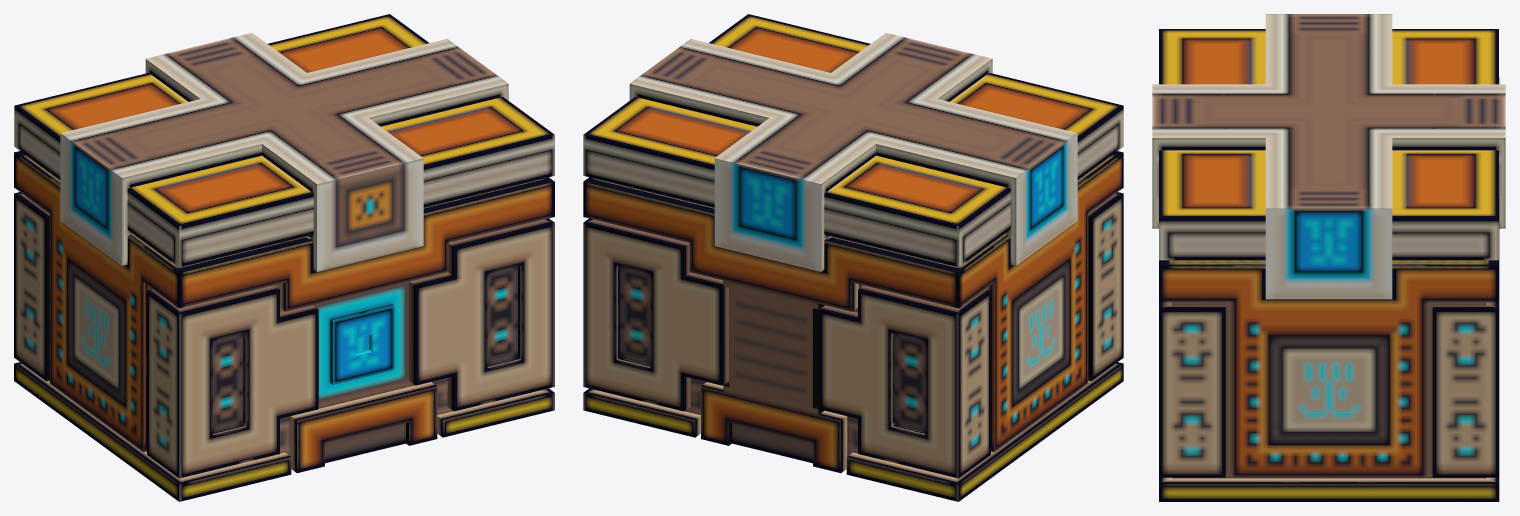
File: mechanist_lottery_chest_1 #402035.fbx
3 views of the same model, side by side, from view 1: azimuth 30°, elevation 25°; view 2: azimuth 150°, elevation 25°; view 3: azimuth 270°, elevation 25° (orthographic). The views are drawn at different scales.
Parts seen in each view (by area): view 1: mechanist_lottery_chest_1, lid_event_chest_1_mesh; view 2: mechanist_lottery_chest_1, lid_event_chest_1_mesh; view 3: lid_event_chest_1_mesh, mechanist_lottery_chest_1.
Boxes of the visible parts, <box> form: mechanist_lottery_chest_1: <box>14,151,554,501</box>; lid_event_chest_1_mesh: <box>14,14,554,271</box>; mechanist_lottery_chest_1: <box>583,151,1123,501</box>; lid_event_chest_1_mesh: <box>583,14,1123,271</box>; lid_event_chest_1_mesh: <box>1152,14,1505,299</box>; mechanist_lottery_chest_1: <box>1159,77,1499,501</box>.
Size of the model in its own units: 3.63 by 2.58 by 2.79.
1 material, 1 textured.
